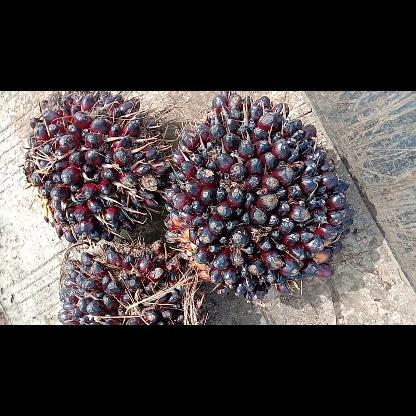TBS mentah: (162, 91, 356, 307), (18, 90, 172, 246), (55, 240, 207, 324)
